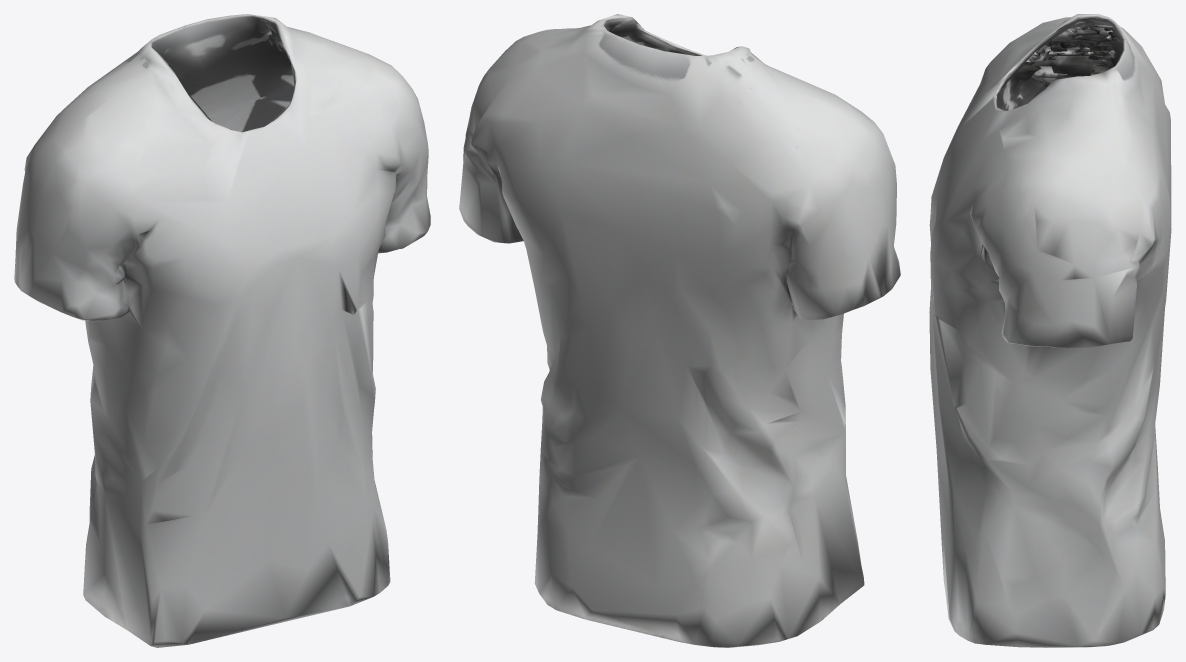
Rendered from white.glb.
The picture shows the model from 3 angles, left to right: view 1: azimuth 30°, elevation 25°; view 2: azimuth 150°, elevation 25°; view 3: azimuth 270°, elevation 25°; orthographic projection. The views are drawn at different scales.
Size of the model in its own units: 1.53 by 2 by 0.8046.
Materials: 1 (1 with a texture image).
